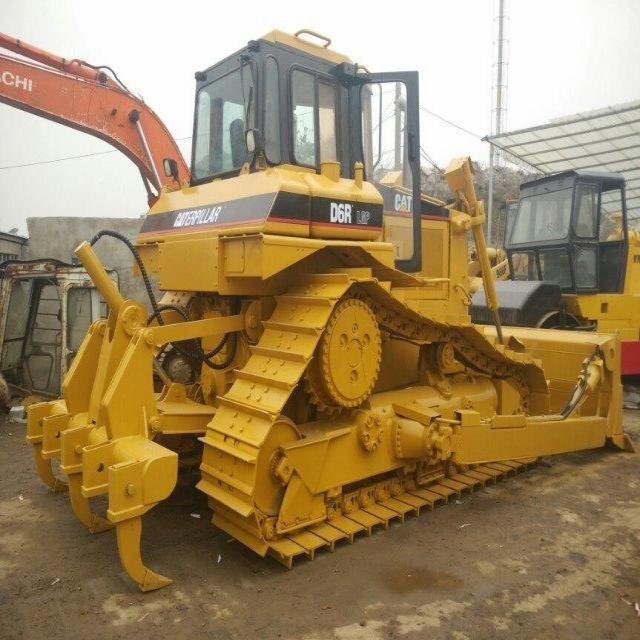Bulldozer: (51, 23, 640, 587)
